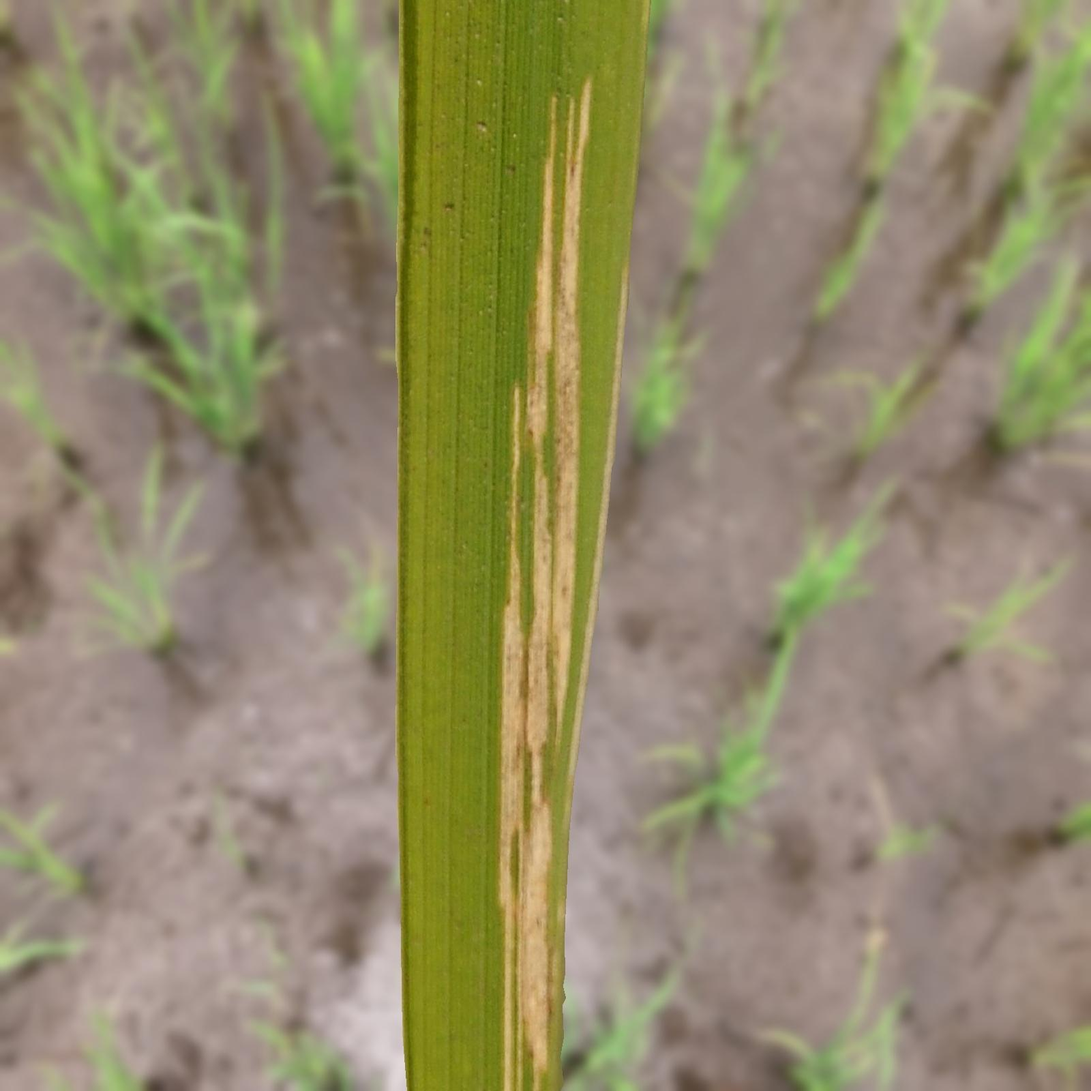BLS: (499, 385, 560, 1090), (562, 264, 629, 830), (551, 77, 593, 744), (524, 96, 557, 454), (504, 948, 513, 1090), (557, 895, 564, 926)
LEAF: (395, 0, 651, 1090)
